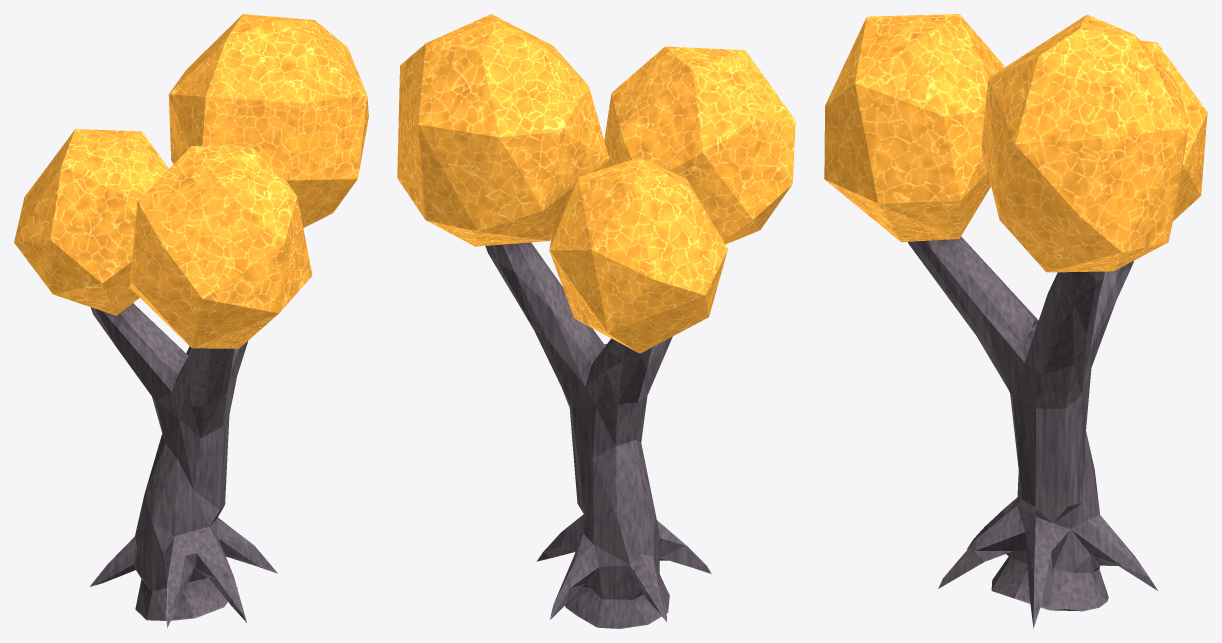
File: underworld-flora-fungal-puffcap.glb
The picture shows the model from 3 angles, left to right: view 1: azimuth 30°, elevation 25°; view 2: azimuth 150°, elevation 25°; view 3: azimuth 270°, elevation 25°; orthographic projection. The views are drawn at different scales.
Parts seen in each view (by area): view 1: puffs, fused-stalk; view 2: puffs, fused-stalk; view 3: puffs, fused-stalk.
Boxes of the visible parts, x1,y1,x2,y2 form: puffs: [14, 14, 368, 348]; fused-stalk: [89, 303, 277, 628]; puffs: [397, 14, 795, 353]; fused-stalk: [485, 242, 711, 628]; puffs: [824, 14, 1207, 272]; fused-stalk: [908, 236, 1157, 628].
Bounding box in the file's own units: 4.06 × 6.58 × 3.63.
Materials: 2 (2 with a texture image).
